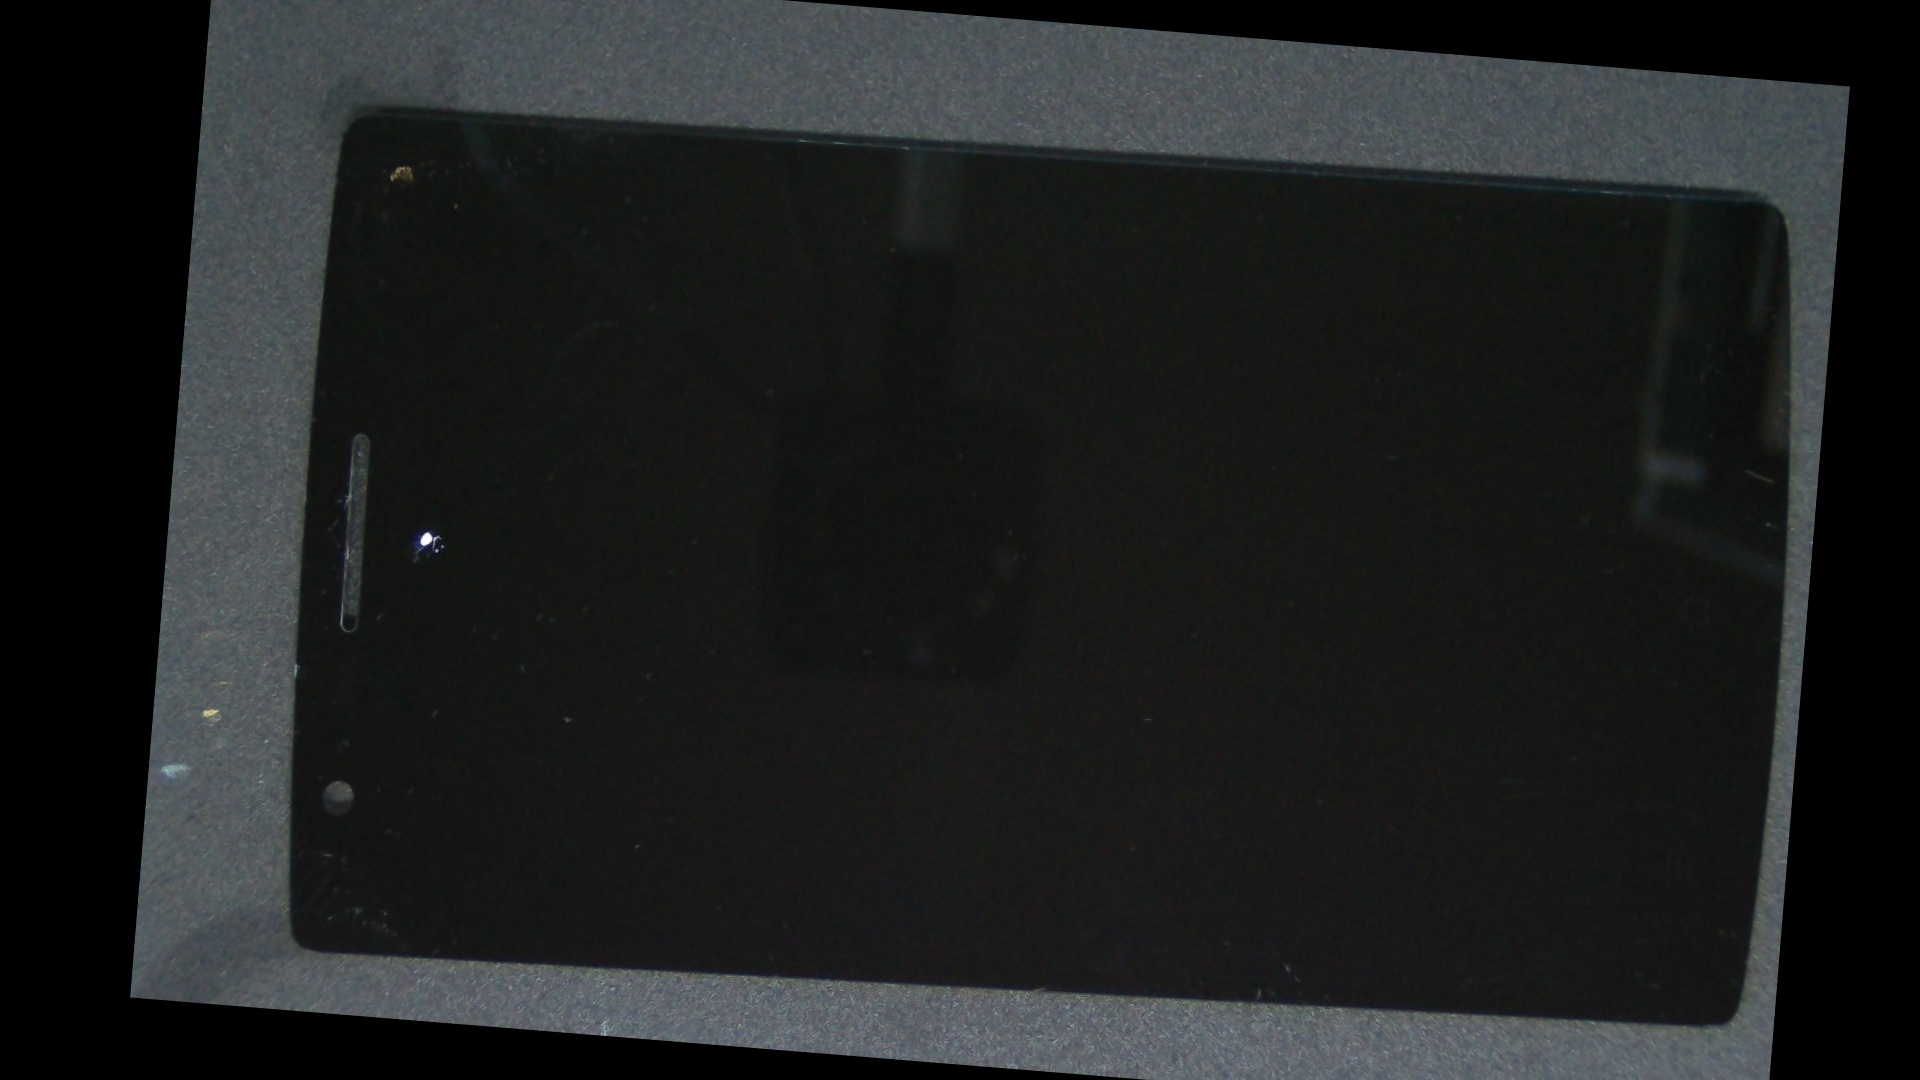oil: (277, 243, 582, 820)
